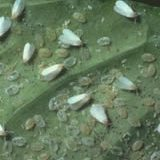whitefly: (113, 1, 141, 21), (59, 29, 85, 50), (40, 62, 66, 82), (91, 103, 111, 128), (118, 76, 142, 96), (69, 92, 92, 110), (9, 1, 24, 23), (22, 43, 36, 66)
